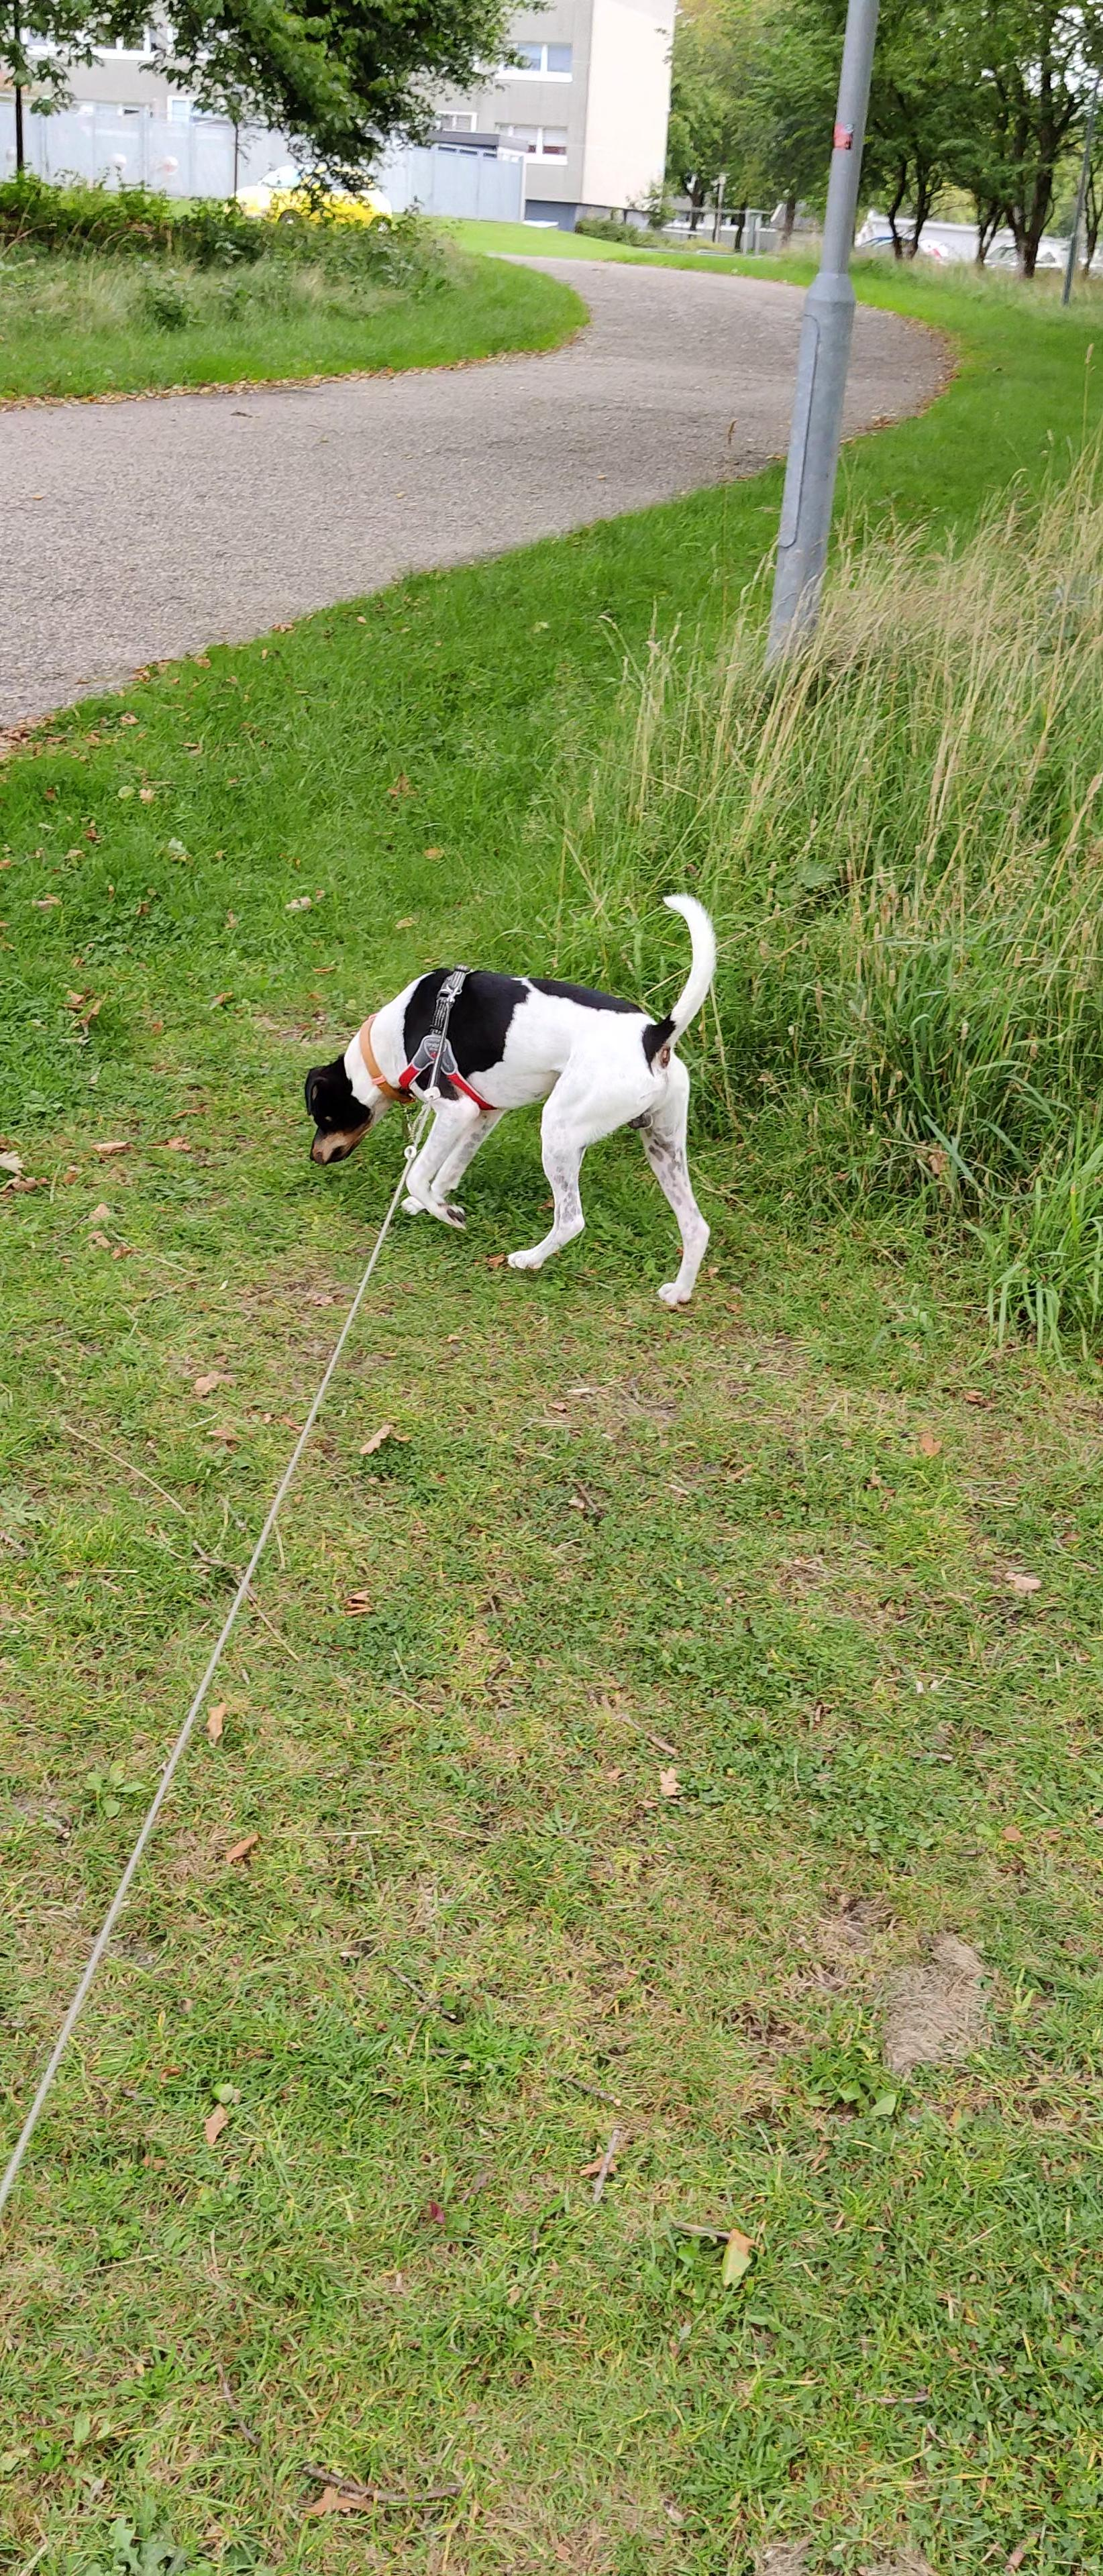Dog: (301, 881, 748, 1326)
